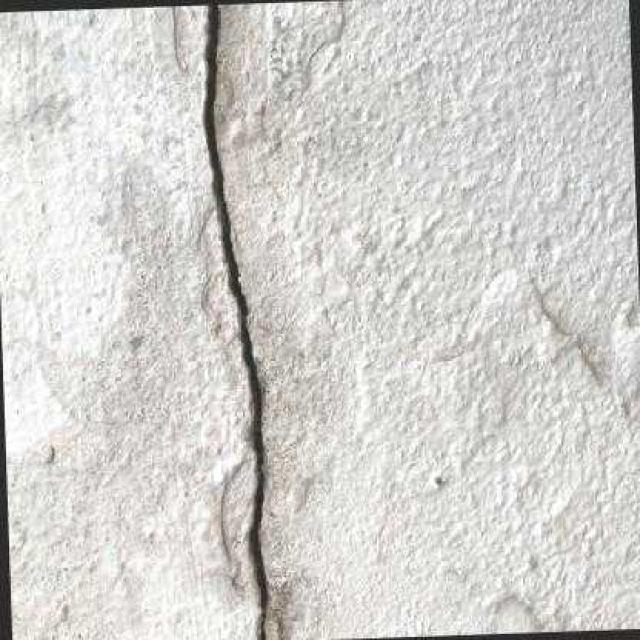D00: (198, 3, 268, 640)
